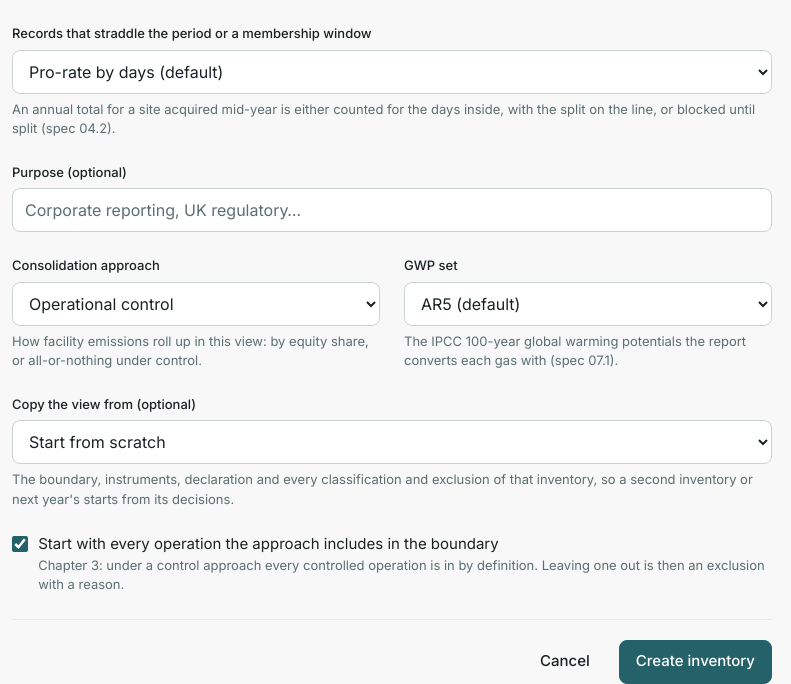
Test: the form says the boundary is rebuilt when the chosen approach differs from the source (spec 05.4)
(page scrolled)
# the draft is an operational-control view and the form defaults to operational control: nothing to say
Select "2025 Corporate Inventory (2025)" in the dropdown labelled "Copy the view from (optional)" at (392, 442), box [12,420,772,464]
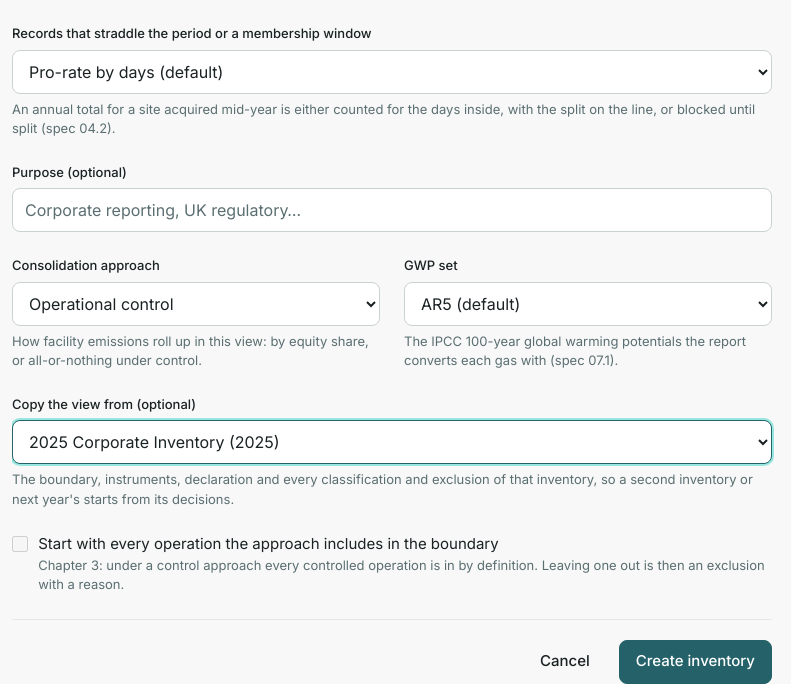
Select "Equity share" in the dropdown labelled "Consolidation approach" at (196, 304), box [12,282,380,326]
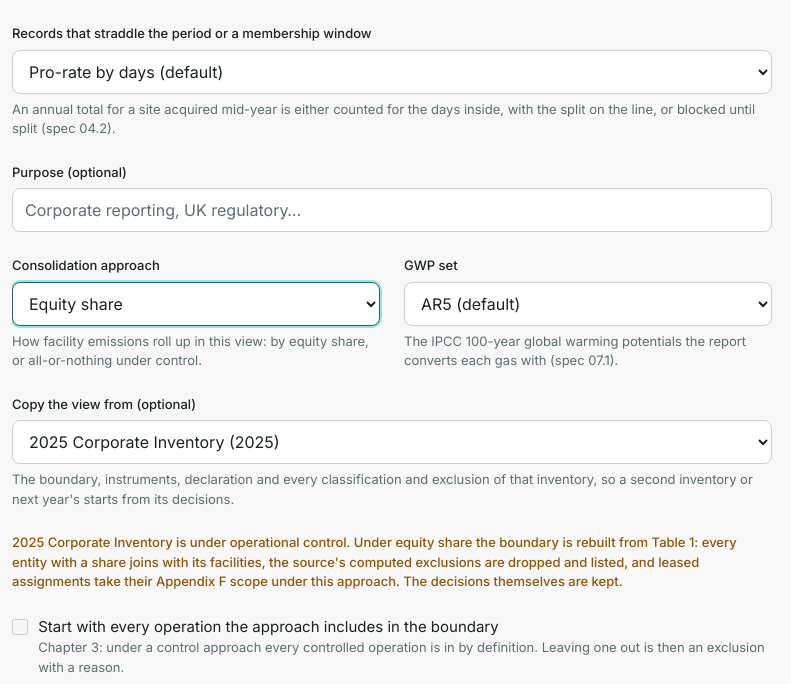
Now the text "2025 Corporate Inventory is under operational control. Under equity share the boundary is rebuilt from Table 1" is shown, box [12,533,772,592]
